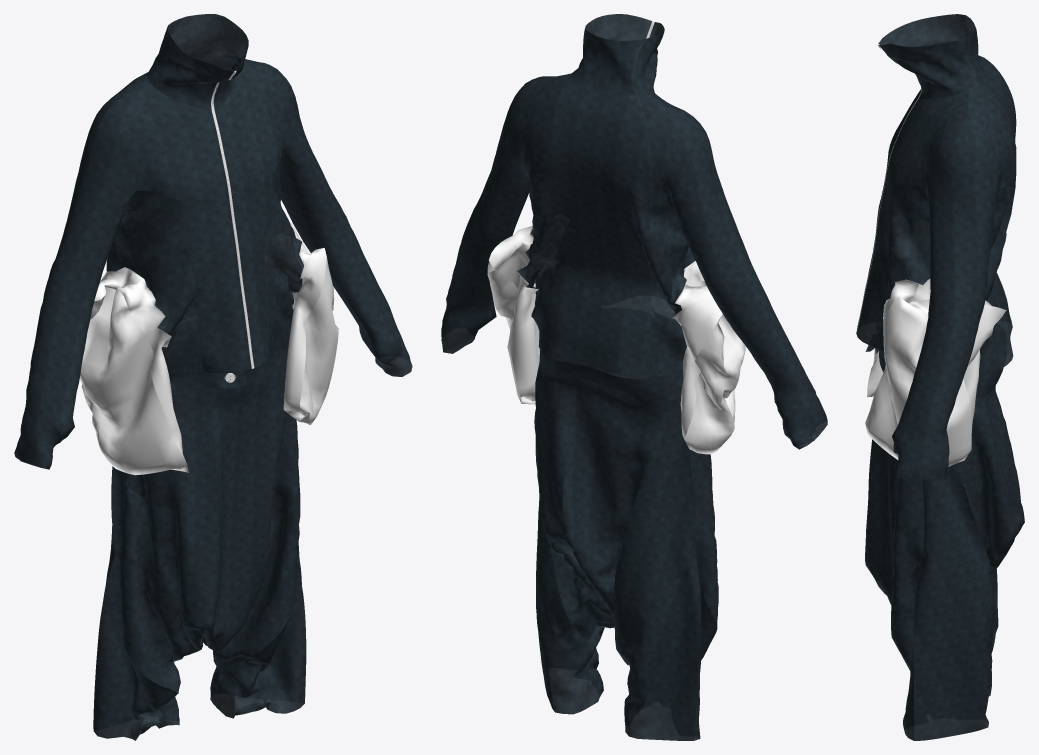
The model's file is asset.gltf.
3 views of the same model, side by side, from view 1: azimuth 30°, elevation 25°; view 2: azimuth 150°, elevation 25°; view 3: azimuth 270°, elevation 25° (orthographic).
Parts seen in each view (by area): view 1: P0019, P0017, P0024, P0027, P0012, P0006, P0008, P0018, P0002, P0001, P0009, PARTS28 (+4 smaller); view 2: PARTS22, P0007, P0004, P0019, P0008, P0024, P0003, P0018, P0022, PARTS28, P0009, P0005 (+4 smaller); view 3: P0008, P0022, P0009, P0003, P0006, PARTS28, P0005, PARTS22, P0012, P0021, P0020, P0017 (+2 smaller).
Boxes of the visible parts, <box> form: P0019: <box>14,72,157,469</box>; P0017: <box>119,90,251,373</box>; P0024: <box>79,267,188,475</box>; P0027: <box>123,388,219,661</box>; P0012: <box>201,362,297,652</box>; P0006: <box>215,71,286,367</box>; P0008: <box>204,54,412,376</box>; P0018: <box>106,191,204,380</box>; P0002: <box>111,466,180,693</box>; P0001: <box>93,554,179,740</box>; P0009: <box>283,223,338,425</box>; PARTS28: <box>147,14,248,111</box>; PARTS22: <box>510,83,691,377</box>; P0007: <box>613,451,700,740</box>; P0004: <box>562,374,688,617</box>; P0019: <box>627,94,827,449</box>; P0008: <box>441,73,580,353</box>; P0024: <box>672,261,745,454</box>; P0003: <box>534,350,613,640</box>; P0018: <box>633,193,695,377</box>; P0022: <box>536,497,587,714</box>; PARTS28: <box>571,14,664,95</box>; P0009: <box>487,226,539,404</box>; P0005: <box>516,153,556,353</box>; P0008: <box>892,82,998,479</box>; P0022: <box>913,475,995,740</box>; P0009: <box>865,279,1006,466</box>; P0003: <box>946,372,1023,574</box>; P0006: <box>856,95,952,350</box>; PARTS28: <box>878,14,984,99</box>; P0005: <box>886,184,1015,377</box>; PARTS22: <box>983,58,1016,369</box>; P0012: <box>868,356,899,605</box>; P0021: <box>891,478,924,631</box>; P0020: <box>891,557,921,740</box>; P0017: <box>857,89,921,328</box>.
Bounding box in the file's own units: 0.8694 × 1.52 × 0.3396.
Materials: 12 (12 with a texture image).
